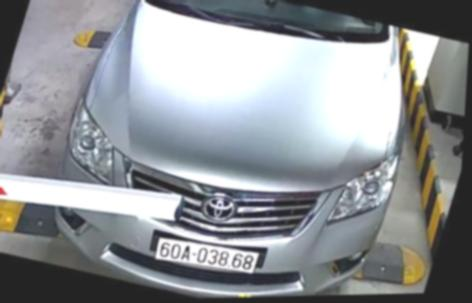License_Plate: (150, 221, 264, 289)
